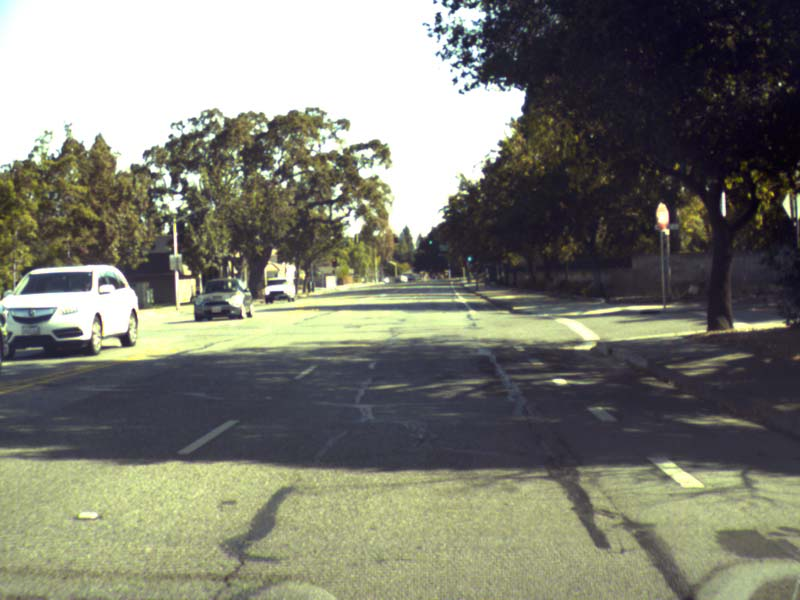Green: (465, 251, 473, 263), (427, 236, 433, 247)
Red: (331, 258, 336, 266)
